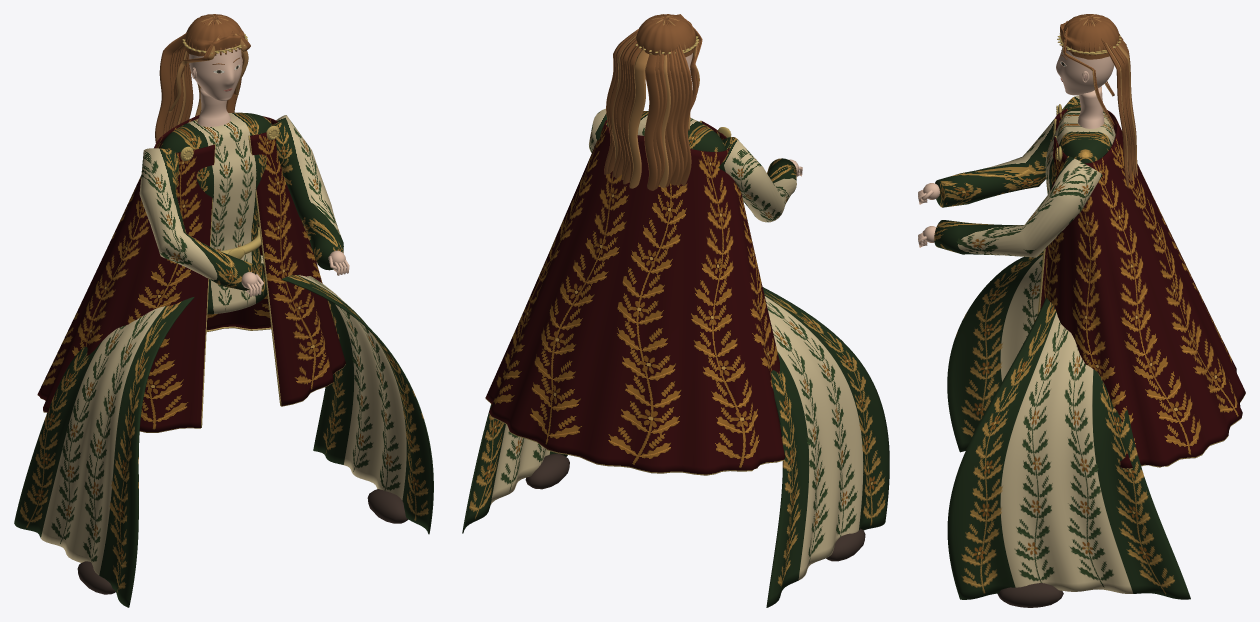
Rendered from princess-v17-mounted.glb.
3 views of the same model, side by side, from view 1: azimuth 30°, elevation 25°; view 2: azimuth 150°, elevation 25°; view 3: azimuth 270°, elevation 25° (orthographic).
Visible parts, largest first — view 1: MorrisPrincess_surface, cape_surface, body_surface, head_surface, armL_surface, armR_surface; view 2: cape_surface, MorrisPrincess_surface, head_surface, armL_surface, body_surface; view 3: MorrisPrincess_surface, cape_surface, armR_surface, head_surface, armL_surface, body_surface.
Boxes of the visible parts, x1,y1,x2,y2 form: MorrisPrincess_surface: (14, 255, 433, 607); cape_surface: (37, 115, 345, 432); body_surface: (160, 87, 279, 314); head_surface: (155, 14, 250, 142); armL_surface: (139, 148, 263, 296); armR_surface: (272, 115, 349, 275); cape_surface: (485, 120, 785, 475); MorrisPrincess_surface: (462, 287, 889, 607); head_surface: (604, 14, 702, 190); armL_surface: (718, 137, 802, 222); body_surface: (637, 111, 731, 151); MorrisPrincess_surface: (947, 251, 1190, 607); cape_surface: (1037, 108, 1245, 469); armR_surface: (918, 156, 1102, 257); head_surface: (1056, 14, 1137, 188); armL_surface: (918, 95, 1080, 207); body_surface: (1045, 86, 1115, 194).
Size of the model in its own units: 0.948 by 1.46 by 0.8373.
12 materials, 2 textured.
